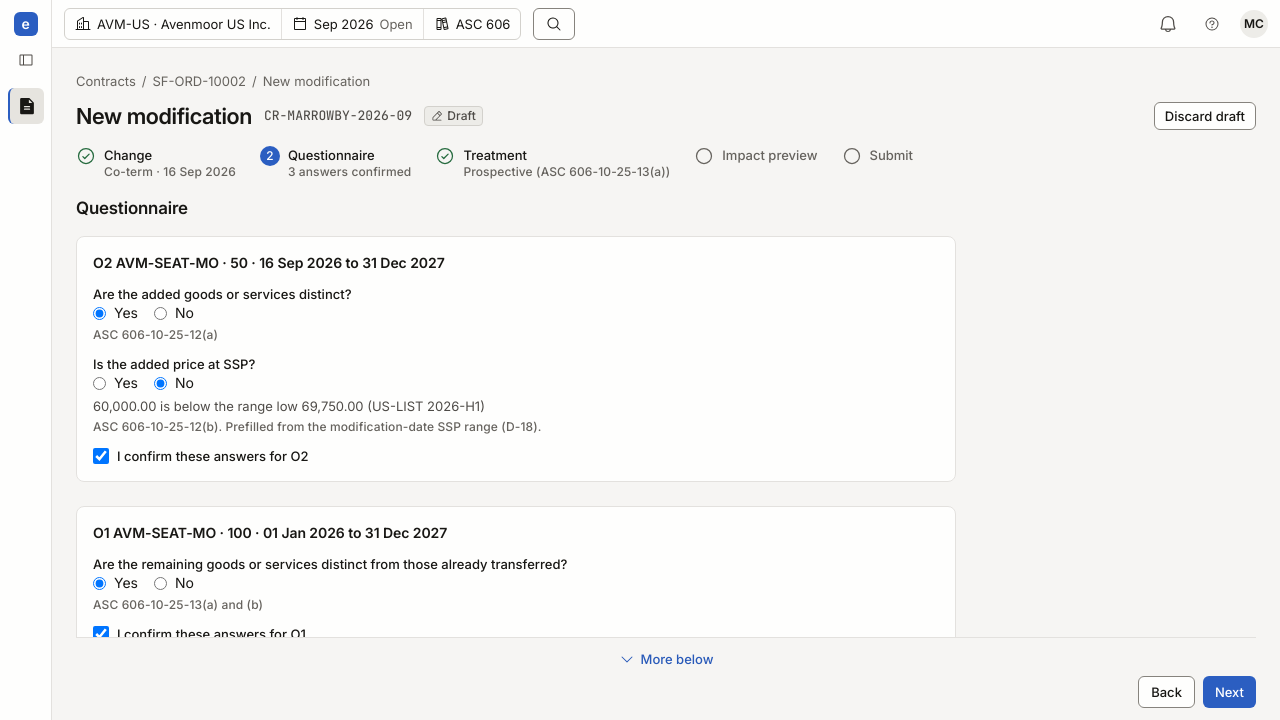
it: SF-07 the wizard of a draft › the price test of a stored answer of No stays under the question and beside the SSP version
The image size is (1280, 720).
Expected: the element "Is the added price at SSP?" is shown, [93, 356, 542, 434]
Expected: the text "60,000.00 is below the range low 69,750.00 (US-LIST 2026-H1)" is shown, [93, 398, 485, 414]
Click the button "Next" at (1229, 692), box [1203, 676, 1256, 708]
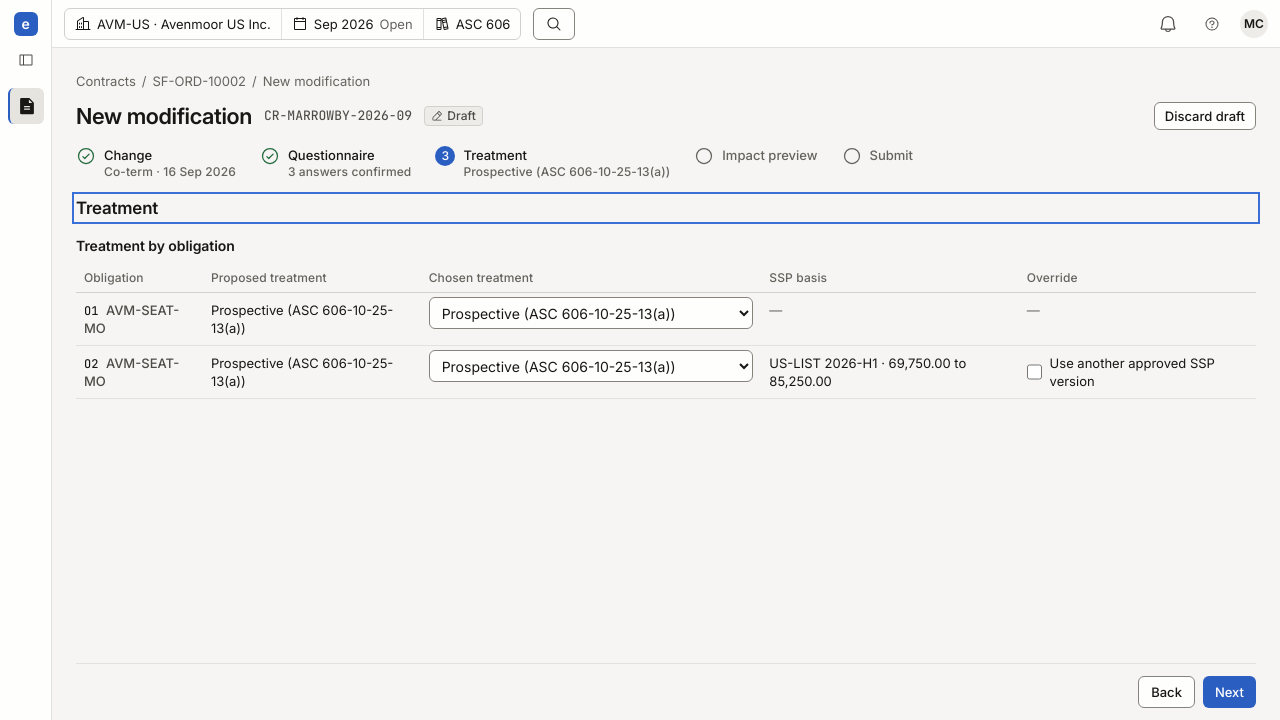
Expected: the text "US-LIST 2026-H1 · 69,750.00 to 85,250.00" is shown, [761, 346, 1019, 398]
